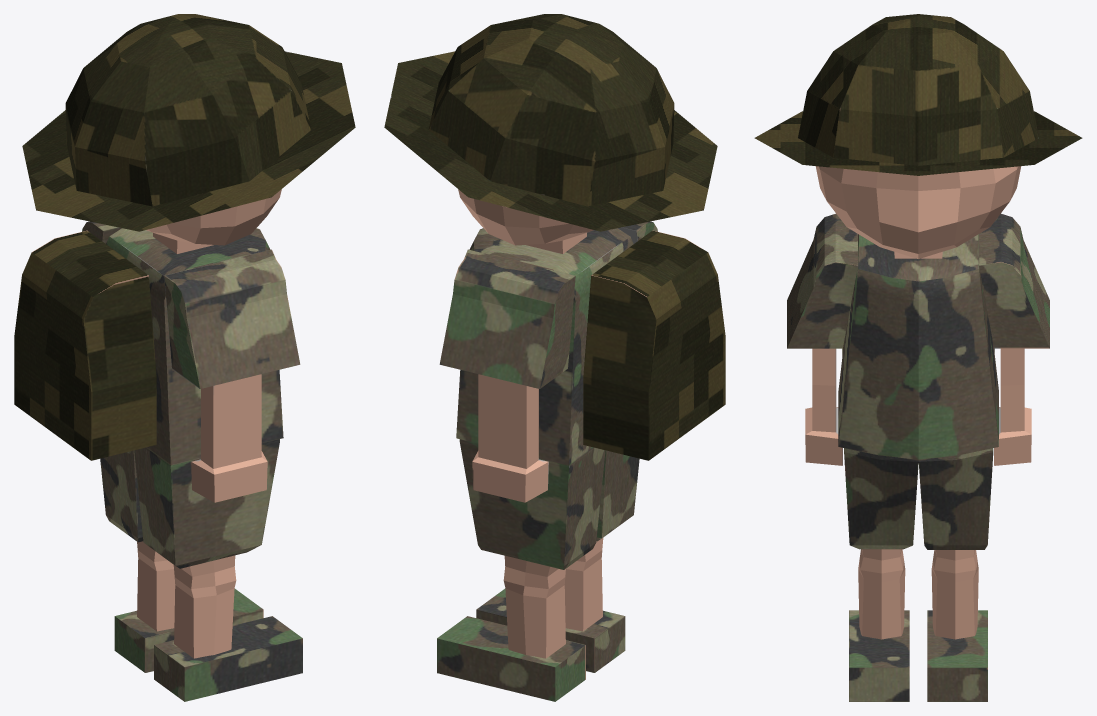
Rendered from renwu2.fbx.
The picture shows the model from 3 angles, left to right: view 1: azimuth 30°, elevation 25°; view 2: azimuth 150°, elevation 25°; view 3: azimuth 270°, elevation 25°; orthographic projection.
Parts seen in each view (by area): view 1: renwu2; view 2: renwu2; view 3: renwu2.
Part boxes in pixels (<box>): renwu2: <box>14,14,355,701</box>; renwu2: <box>384,14,725,701</box>; renwu2: <box>754,14,1082,701</box>.
Bounding box in the file's own units: 0.7884 × 1.58 × 0.7393.
1 material, 1 textured.
